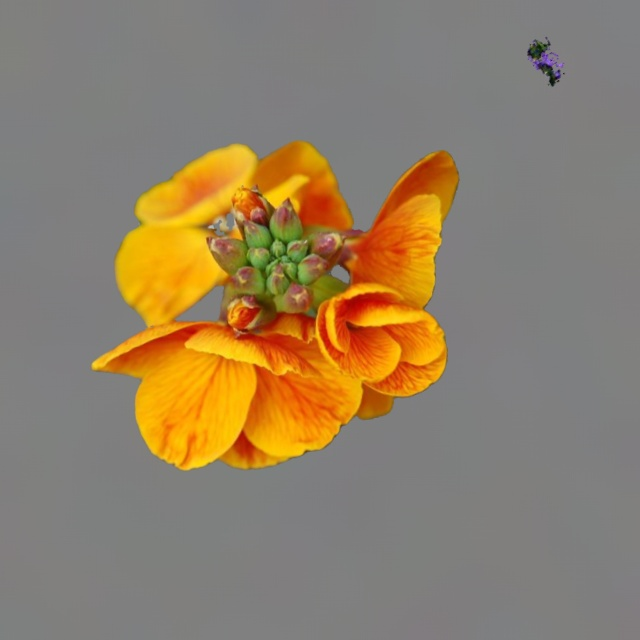foxglove: (139, 186, 214, 305)
wallflower: (91, 140, 458, 470)
ylang-ylang: (527, 37, 563, 85)
